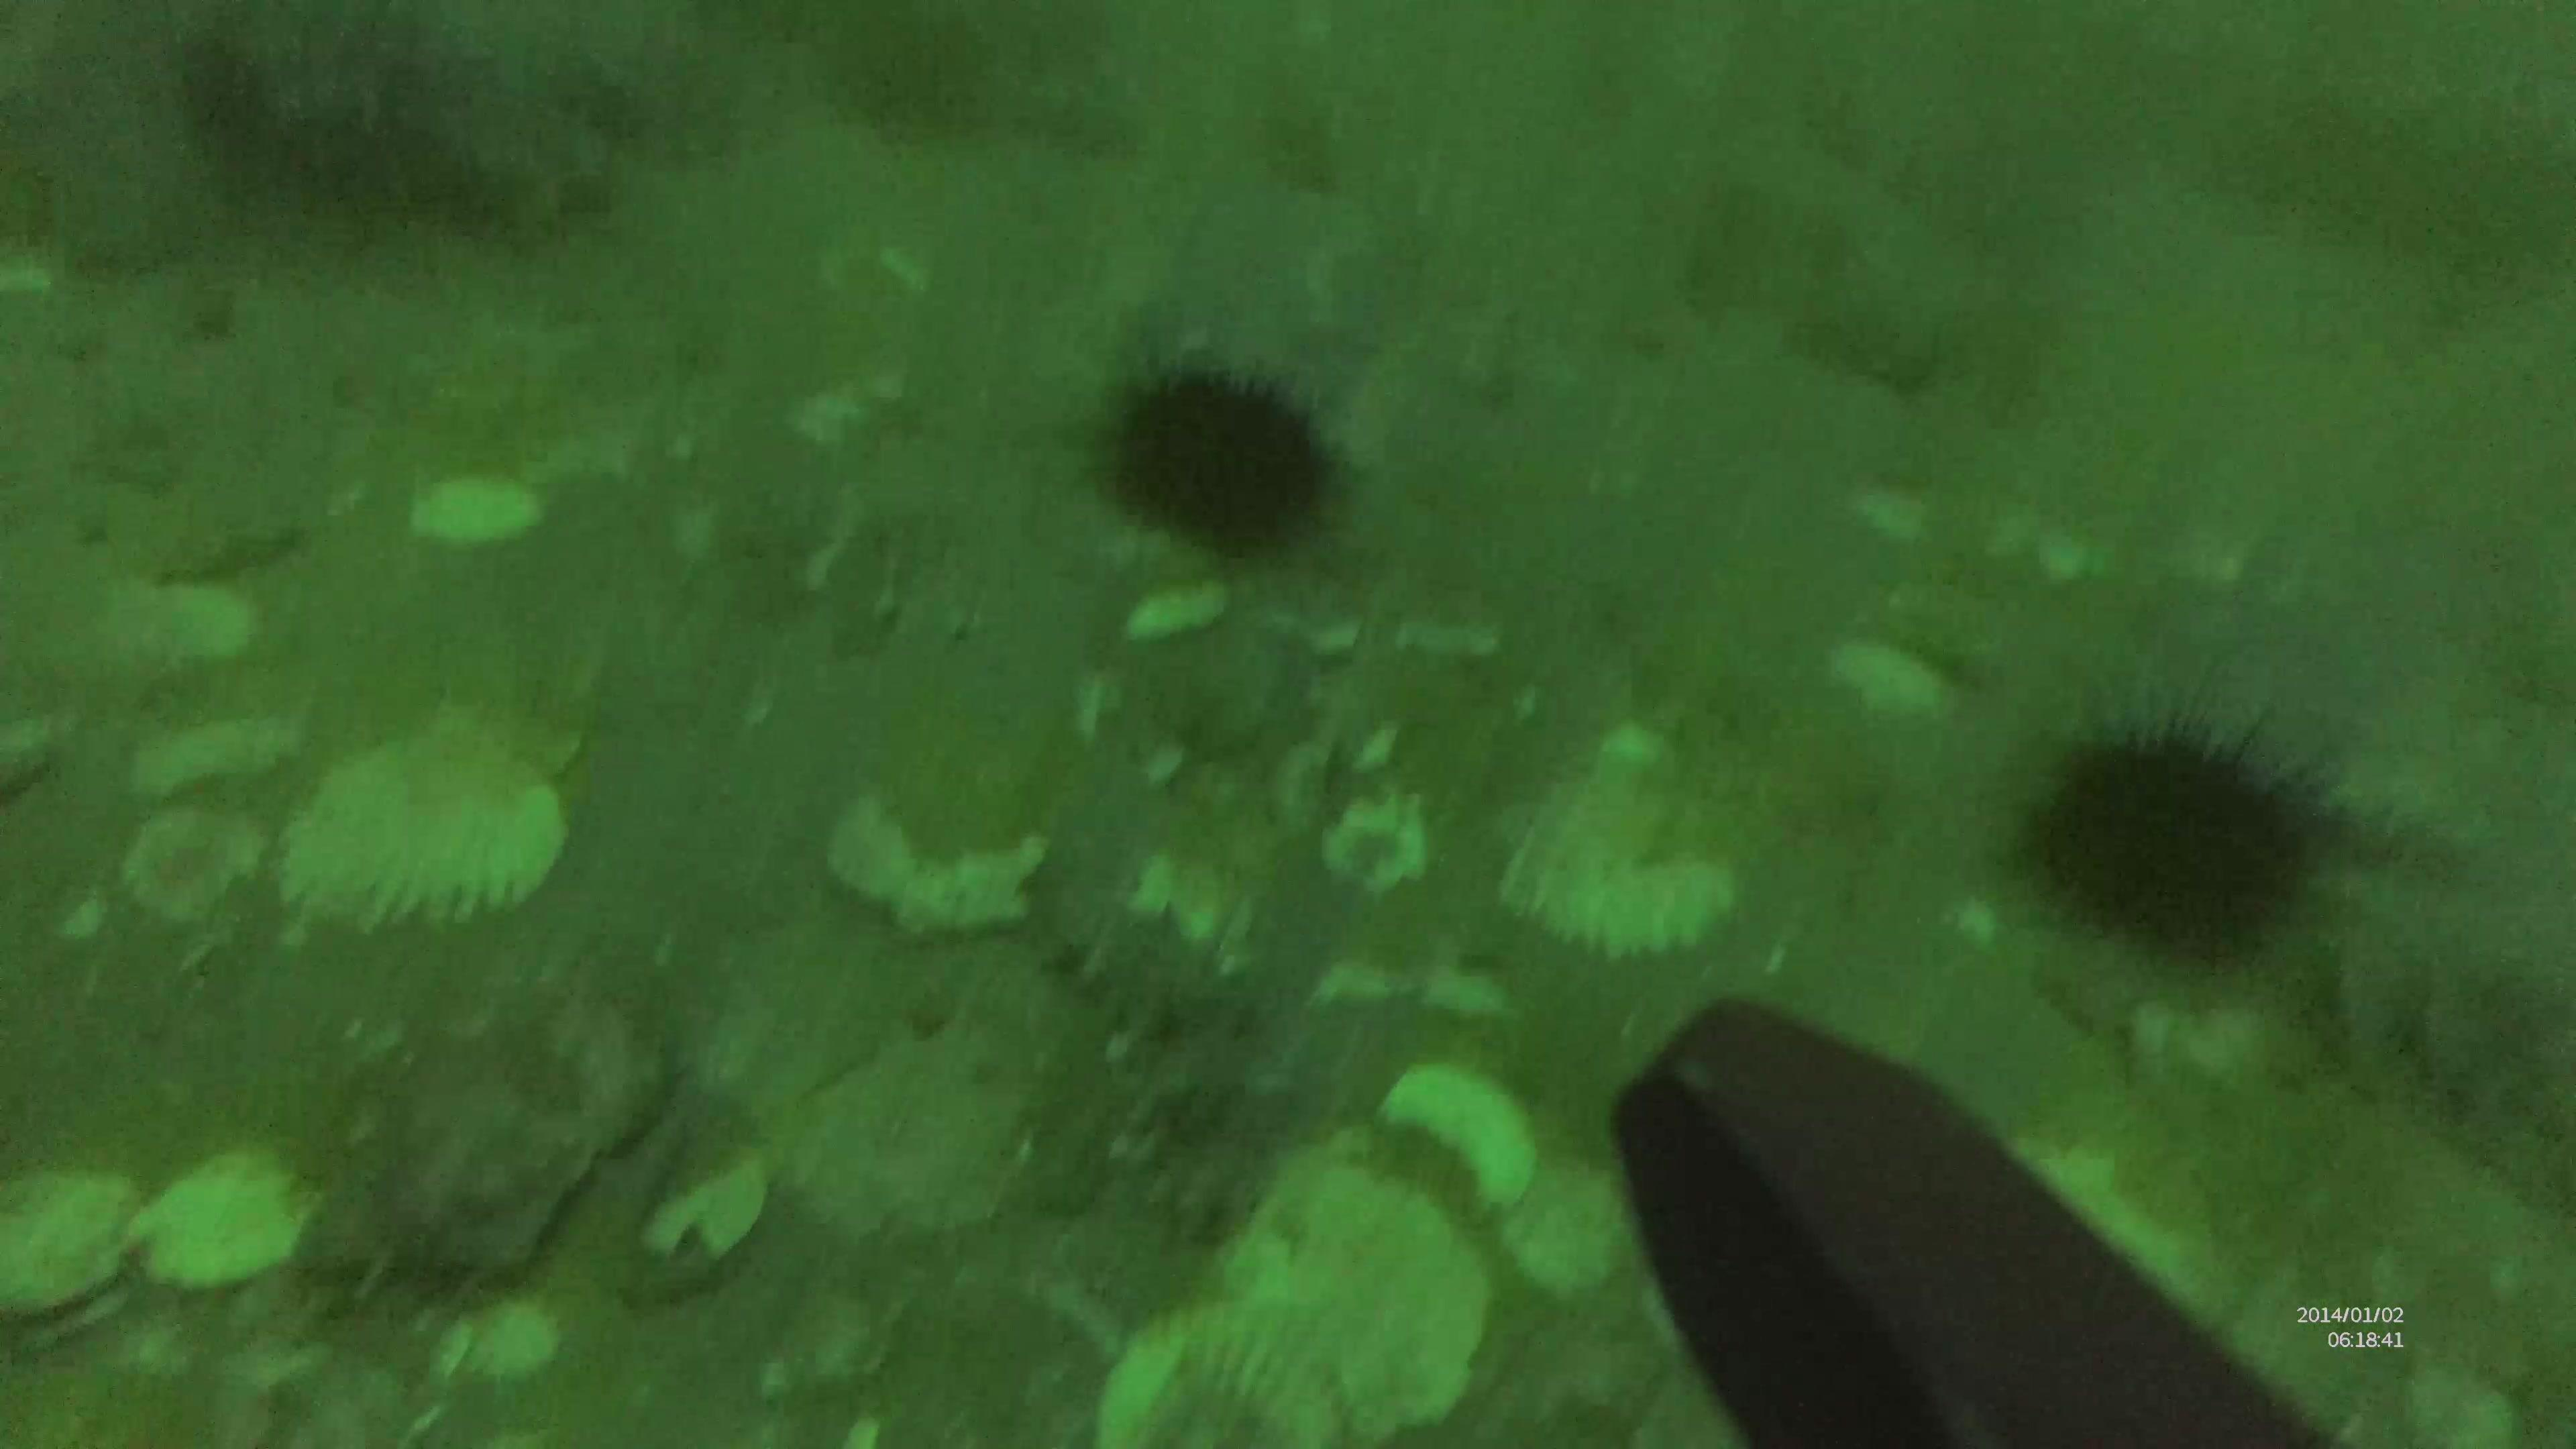echinus: (2035, 715, 2341, 971), (1085, 357, 1361, 571)
scallop: (1207, 1161, 1481, 1424), (283, 727, 563, 938), (1491, 731, 1736, 955), (2013, 1123, 2245, 1325), (1095, 1304, 1387, 1449), (824, 775, 1053, 943), (140, 1143, 326, 1293), (1384, 1058, 1537, 1208), (117, 809, 287, 939), (0, 1166, 147, 1313), (610, 1122, 763, 1258), (1506, 1169, 1635, 1307), (1074, 656, 1205, 784), (96, 579, 258, 678), (2112, 1007, 2279, 1099), (111, 713, 288, 796), (2380, 1348, 2521, 1449), (791, 347, 913, 458), (1132, 823, 1244, 934), (400, 467, 536, 556), (1322, 786, 1431, 895), (416, 1297, 548, 1385), (1829, 630, 1951, 725), (1325, 922, 1414, 1017), (1389, 602, 1518, 663), (1408, 947, 1514, 1012), (1844, 469, 1932, 547), (2029, 513, 2114, 591), (1132, 571, 1228, 639), (1982, 495, 2031, 556)
